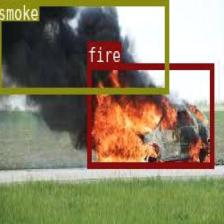fire: (86, 63, 213, 168)
smoke: (0, 0, 167, 93)
